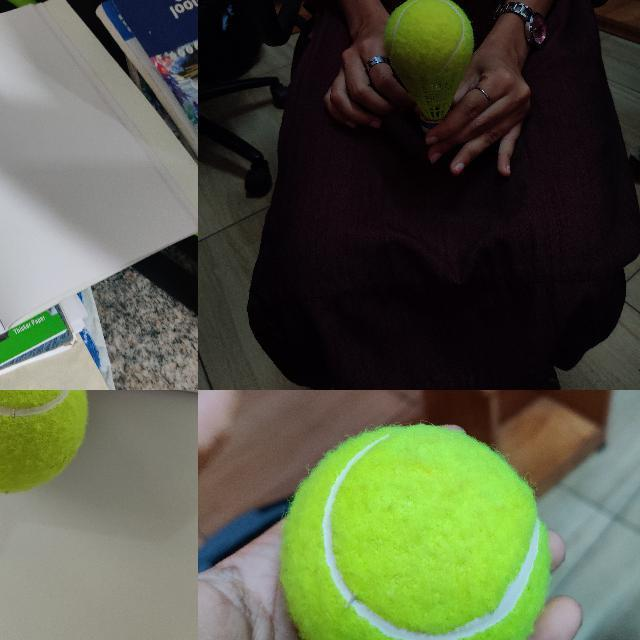tennis-ball: (282, 425, 551, 639), (0, 390, 89, 495), (385, 0, 473, 66)
